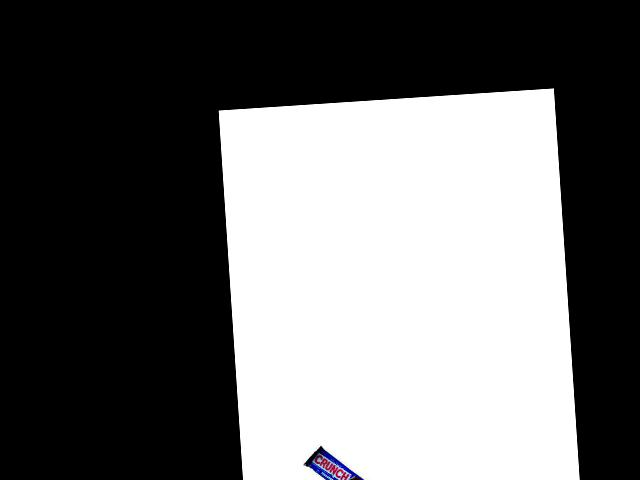chocolate: (301, 442, 371, 480)
